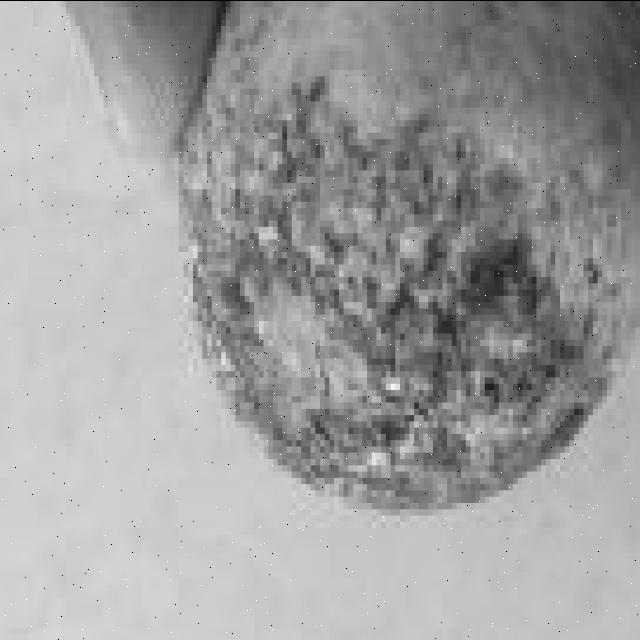Bad_Lime-0-1-day: (179, 0, 640, 515)
